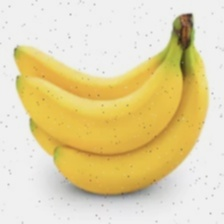banana: (7, 15, 188, 206)
